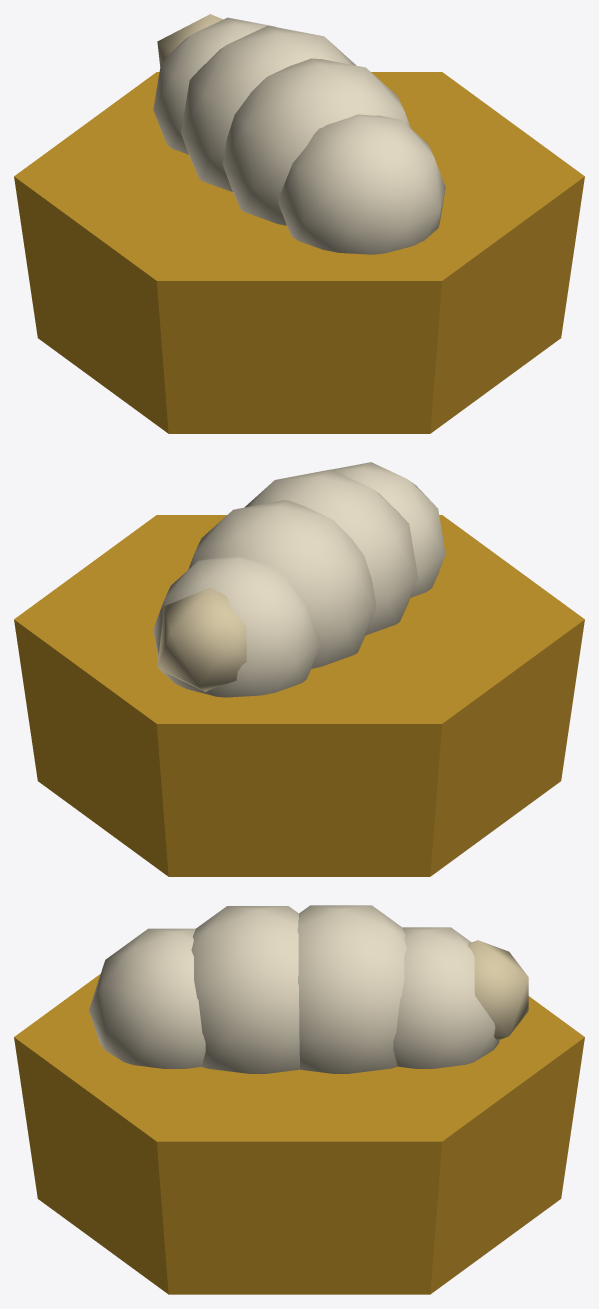
The model's file is bee_larva_v0.glb.
3 views of the same model, one above another, from view 1: azimuth 30°, elevation 25°; view 2: azimuth 150°, elevation 25°; view 3: azimuth 270°, elevation 25° (orthographic).
Parts seen in each view (by area): view 1: bee_larva_v0; view 2: bee_larva_v0; view 3: bee_larva_v0.
Boxes of the visible parts, x1,y1,x2,y2 form: bee_larva_v0: (14,14,584,433); bee_larva_v0: (14,462,584,876); bee_larva_v0: (14,905,584,1294).
Bounding box in the file's own units: 0.8314 × 0.5362 × 0.96.
